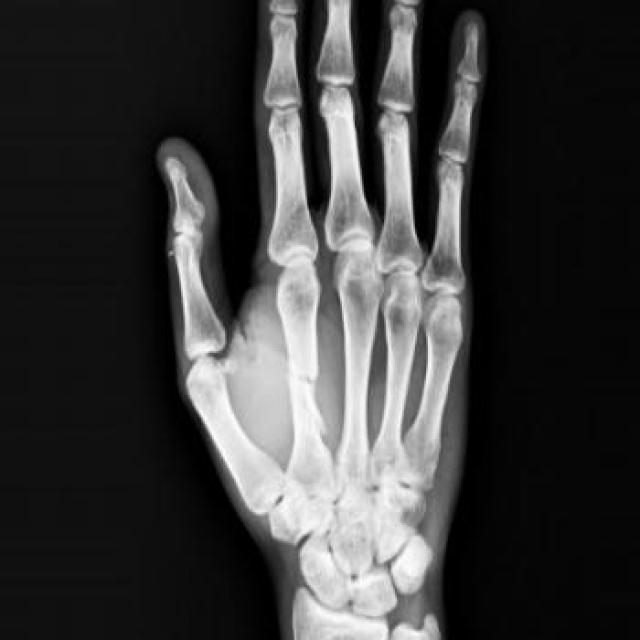Fracture: (278, 369, 336, 397)
